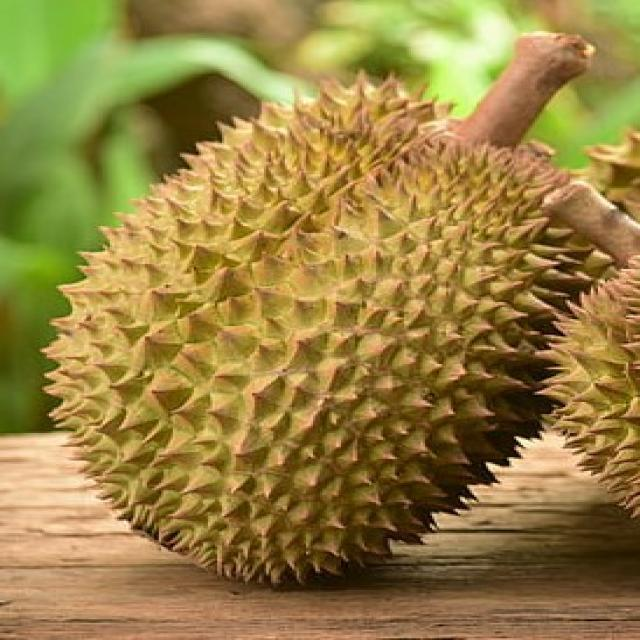mature: (47, 81, 557, 583)
